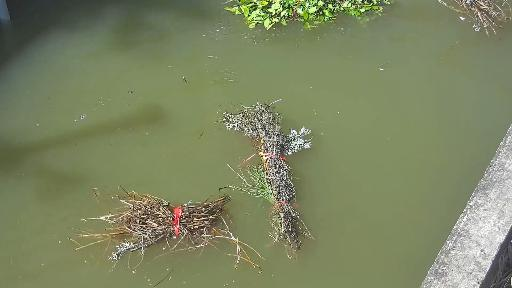twig: (216, 101, 320, 251), (103, 184, 258, 271), (226, 0, 397, 38), (451, 0, 512, 36)
